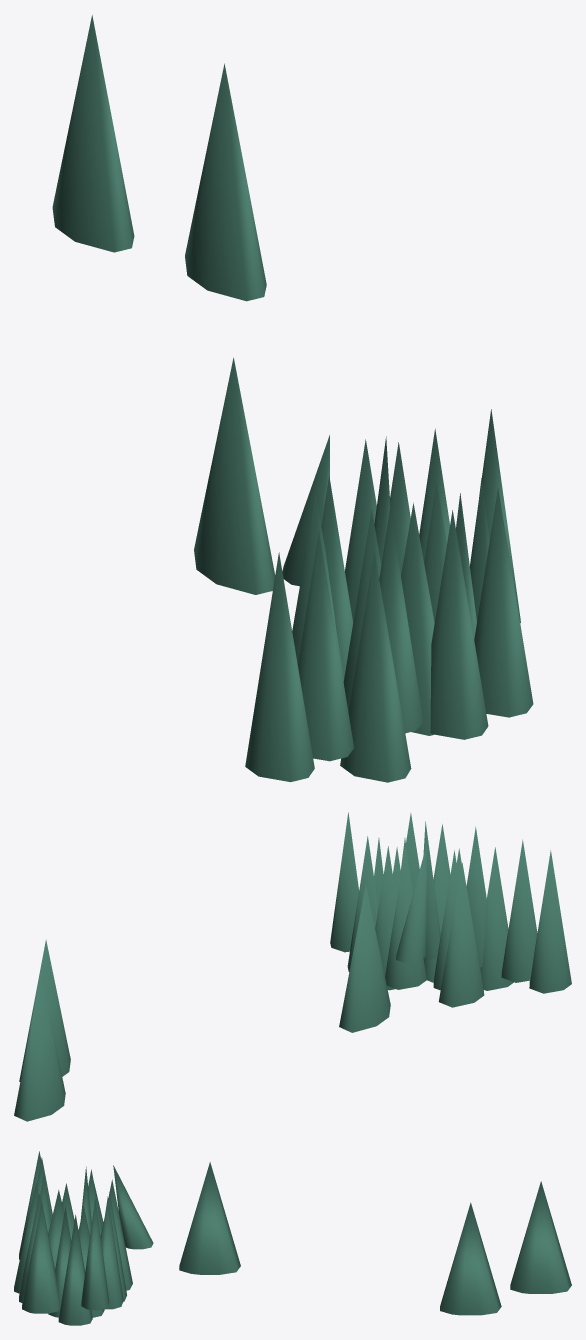
File: Grass.fbx
3 renders of one model, top to bottom at view 1: azimuth 30°, elevation 25°; view 2: azimuth 150°, elevation 25°; view 3: azimuth 270°, elevation 25°, orthographic. The views are drawn at different scales.
Parts seen in each view (by area): view 1: polySurface39; view 2: polySurface39; view 3: polySurface39.
Boxes of the visible parts, x1=… form: polySurface39: x1=52, y1=15, x2=533, y2=782; polySurface39: x1=14, y1=812, x2=571, y2=1121; polySurface39: x1=14, y1=1151, x2=571, y2=1325.
Bounding box in the file's own units: 0.3609 × 0.2607 × 0.8087.
